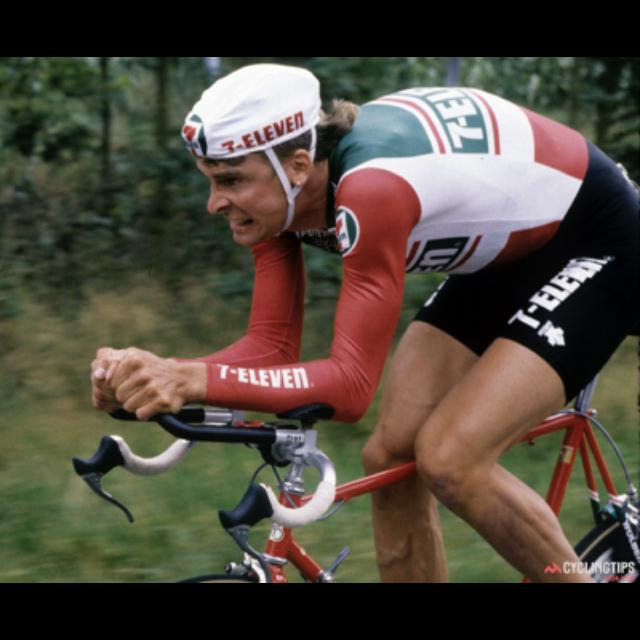With Helmet: (169, 64, 323, 262)
